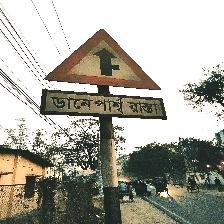Side-road-right: (41, 29, 165, 119)
